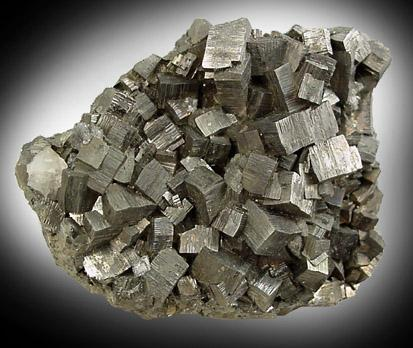pyrite: (29, 18, 393, 314)
